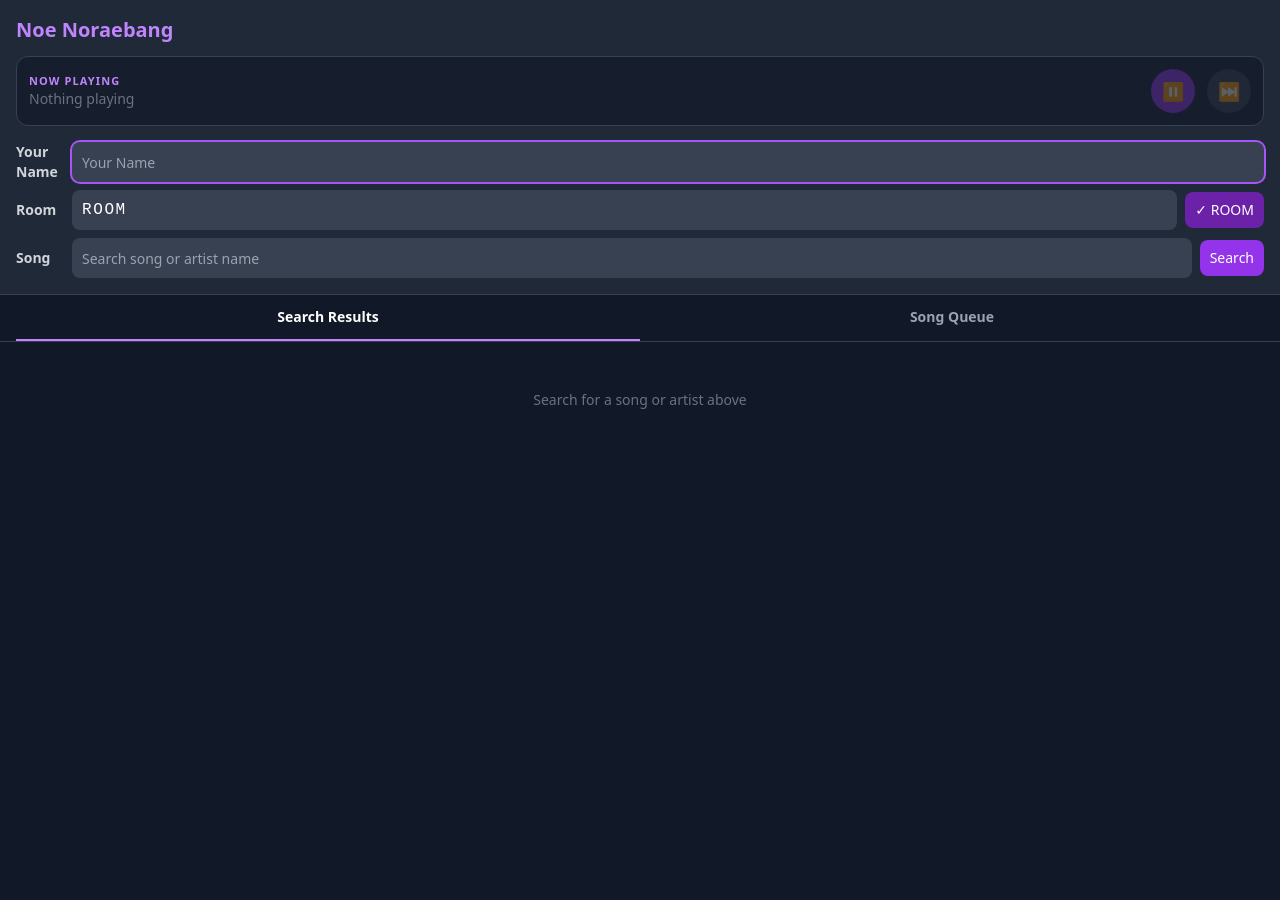
MobileView › remote for the TV › × asks for confirmation; Cancel keeps the song and sends nothing
Click the tab "Song Queue": point(952, 318) x1=640 y1=295 x2=1264 y2=341
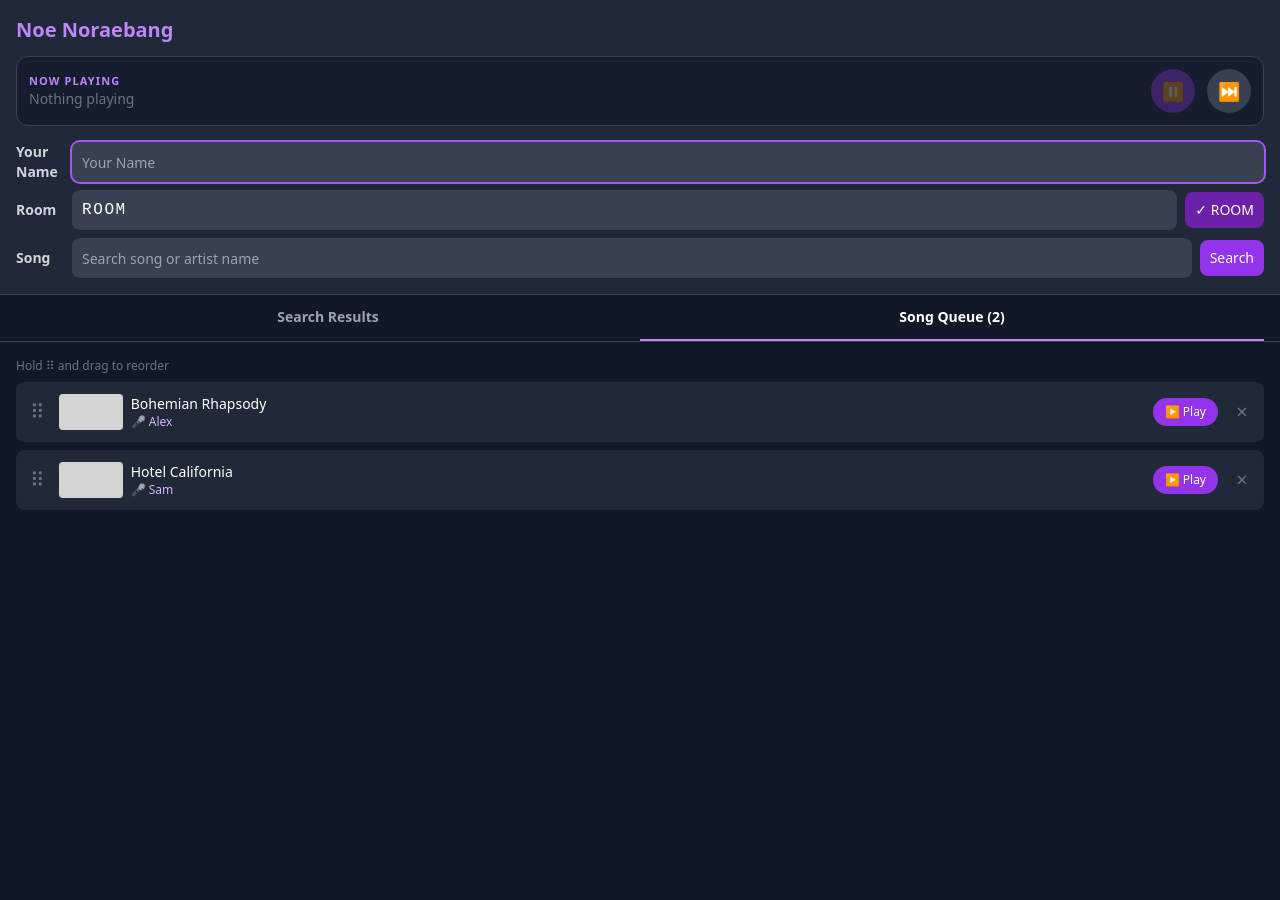
Click the button named "Remove Hotel California from the queue": point(1242, 480) x1=1226 y1=464 x2=1258 y2=496
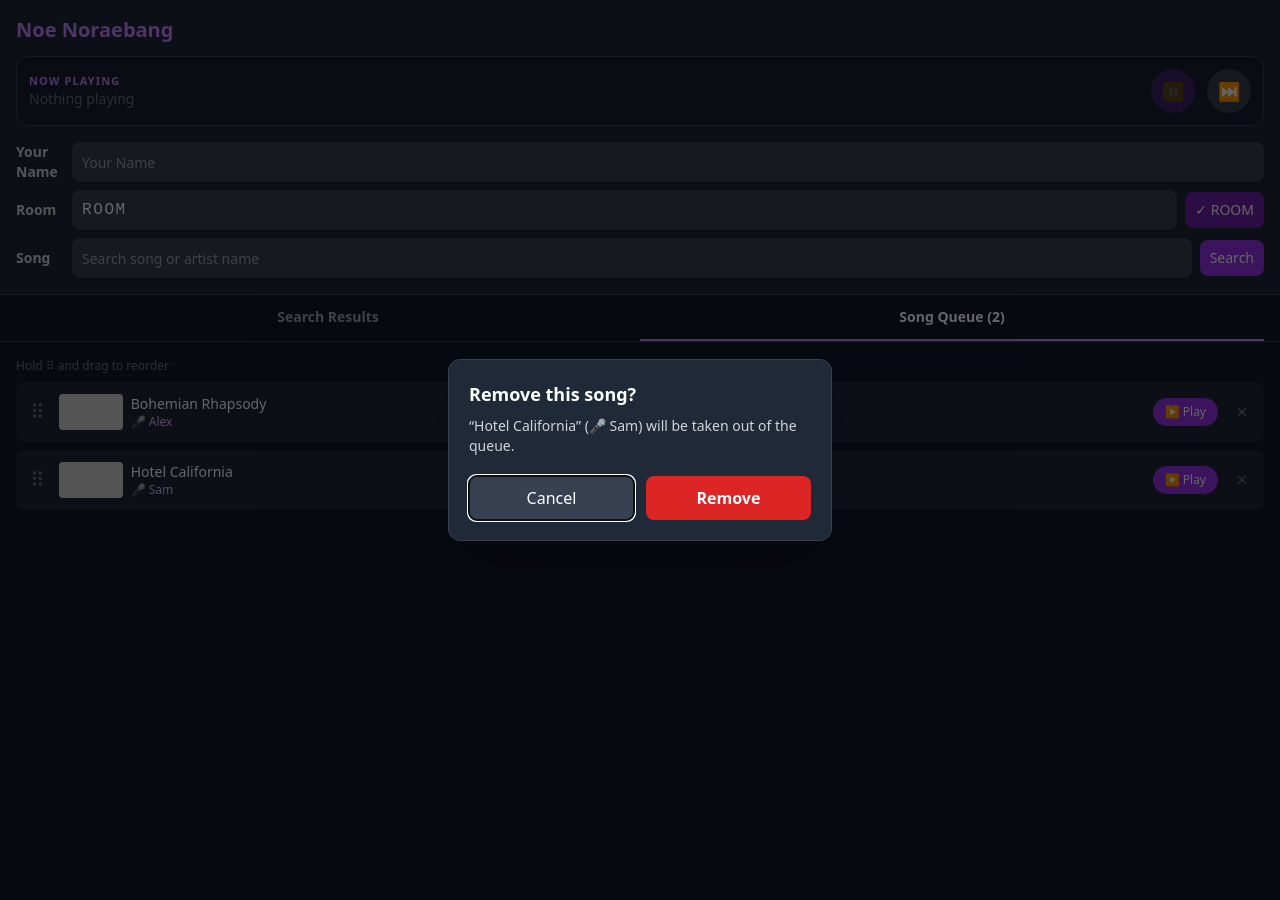
Check: the dialog shows "Remove this song?", box x1=469 y1=382 x2=636 y2=406
Check: the dialog shows "Hotel California", box x1=469 y1=416 x2=797 y2=455
Check: the dialog shows "🎤 Sam", box x1=469 y1=416 x2=797 y2=455
Click the button "Cancel": point(552, 498) x1=469 y1=476 x2=634 y2=520
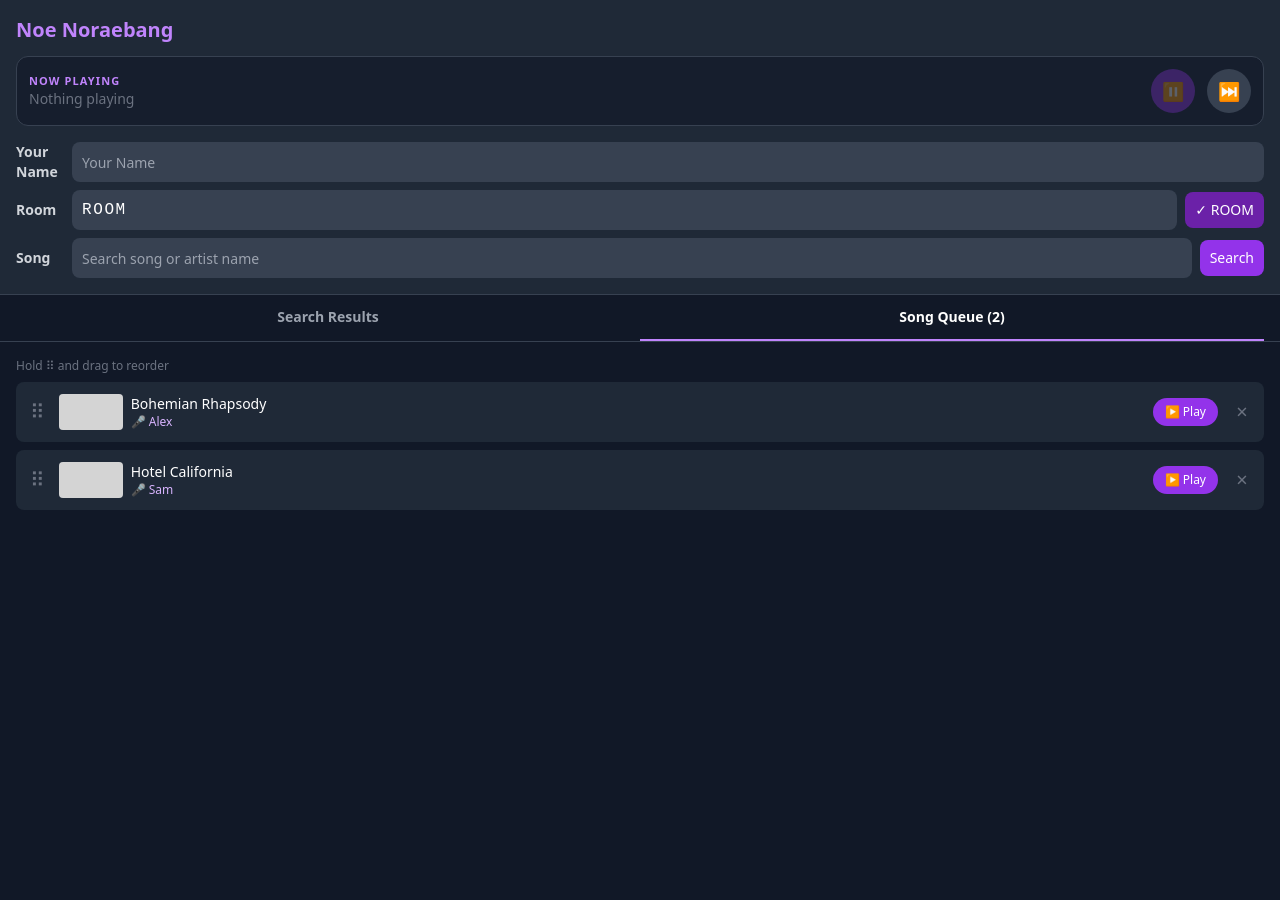
Check: the list with test id "queue-list" shows "Hotel California", box x1=131 y1=462 x2=233 y2=481
Check: the dialog is gone
